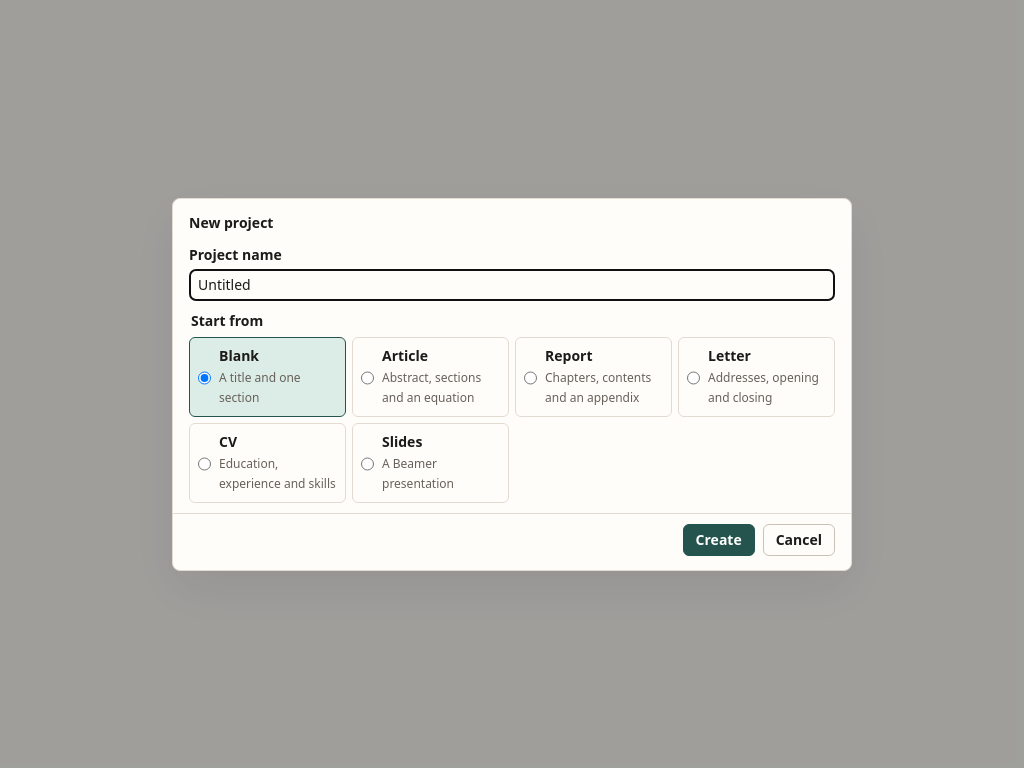
Scenario: NewProjectDialog › creates with the name and chosen template, and refuses invalid names
Later steps or results of the test are not shown.
Replace the text in the field labelled "Project name" with "a:b" at (512, 284), box [189,268,835,300]
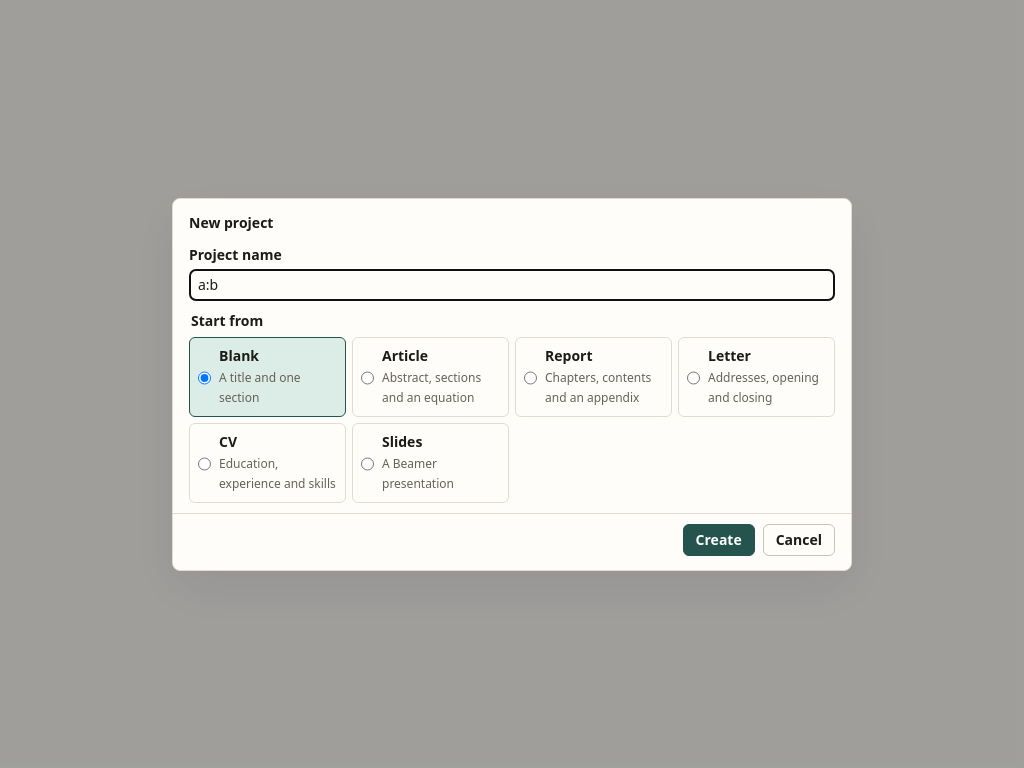
Click the button "Create" at (719, 540), box [683,524,755,556]
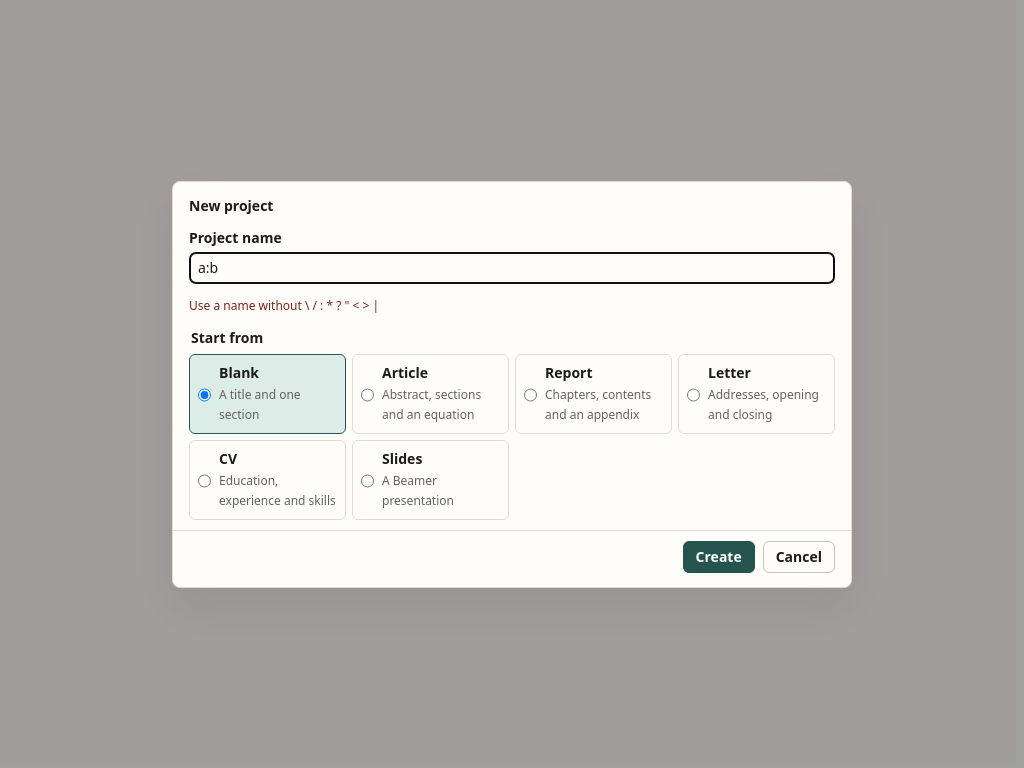
expect the message "Use a name without \\ / : * ? \" < > |" is shown: met, box [189,296,379,314]
